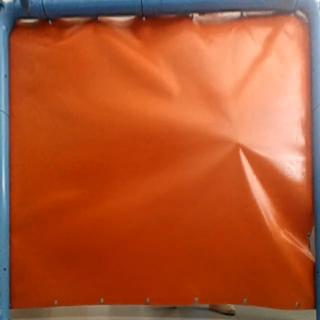Hit-hRxx: (231, 136, 246, 150)
